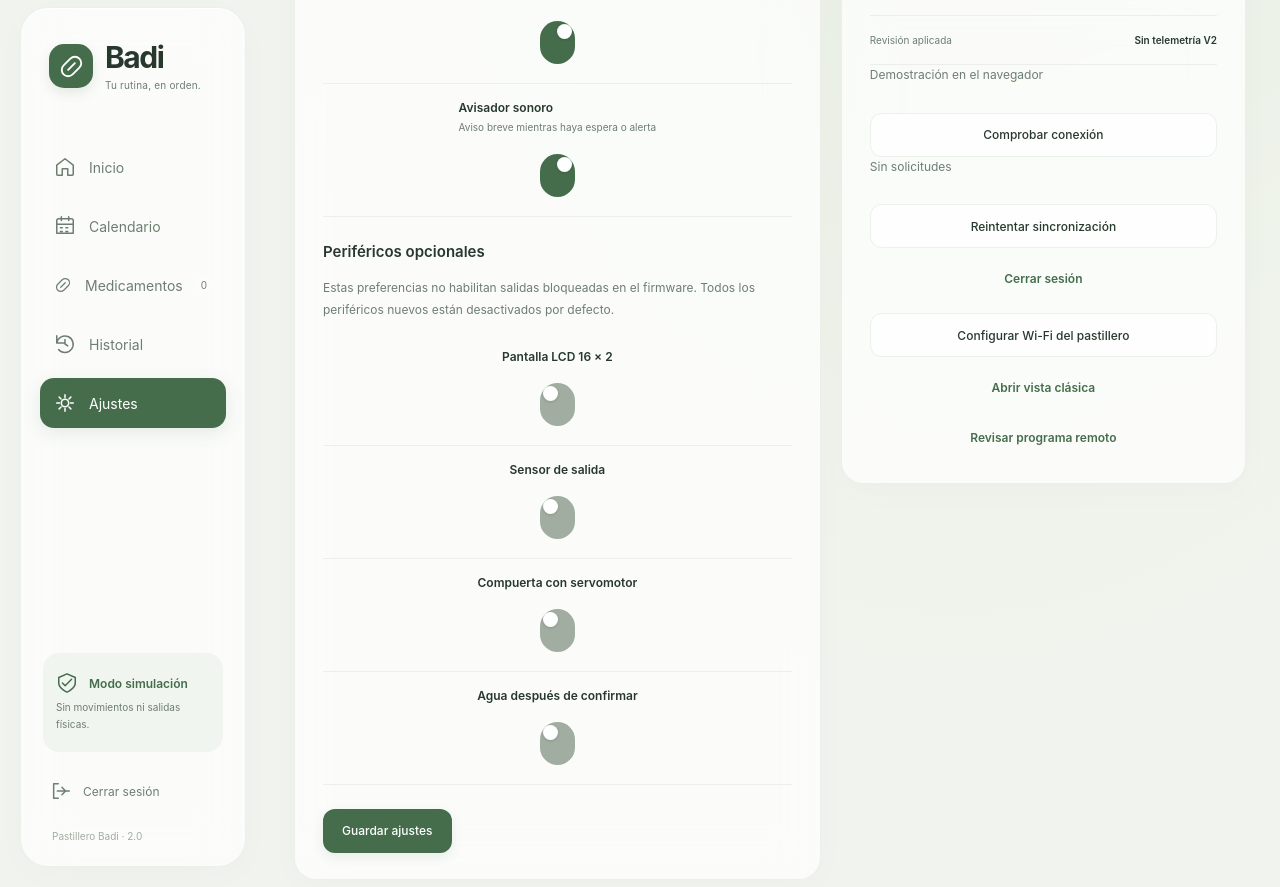
Test: la reconciliación conserva pautas locales solo tras elegir esa opción
(page scrolled)
Click the button "Revisar programa remoto": (1043, 437) [970, 417, 1116, 457]
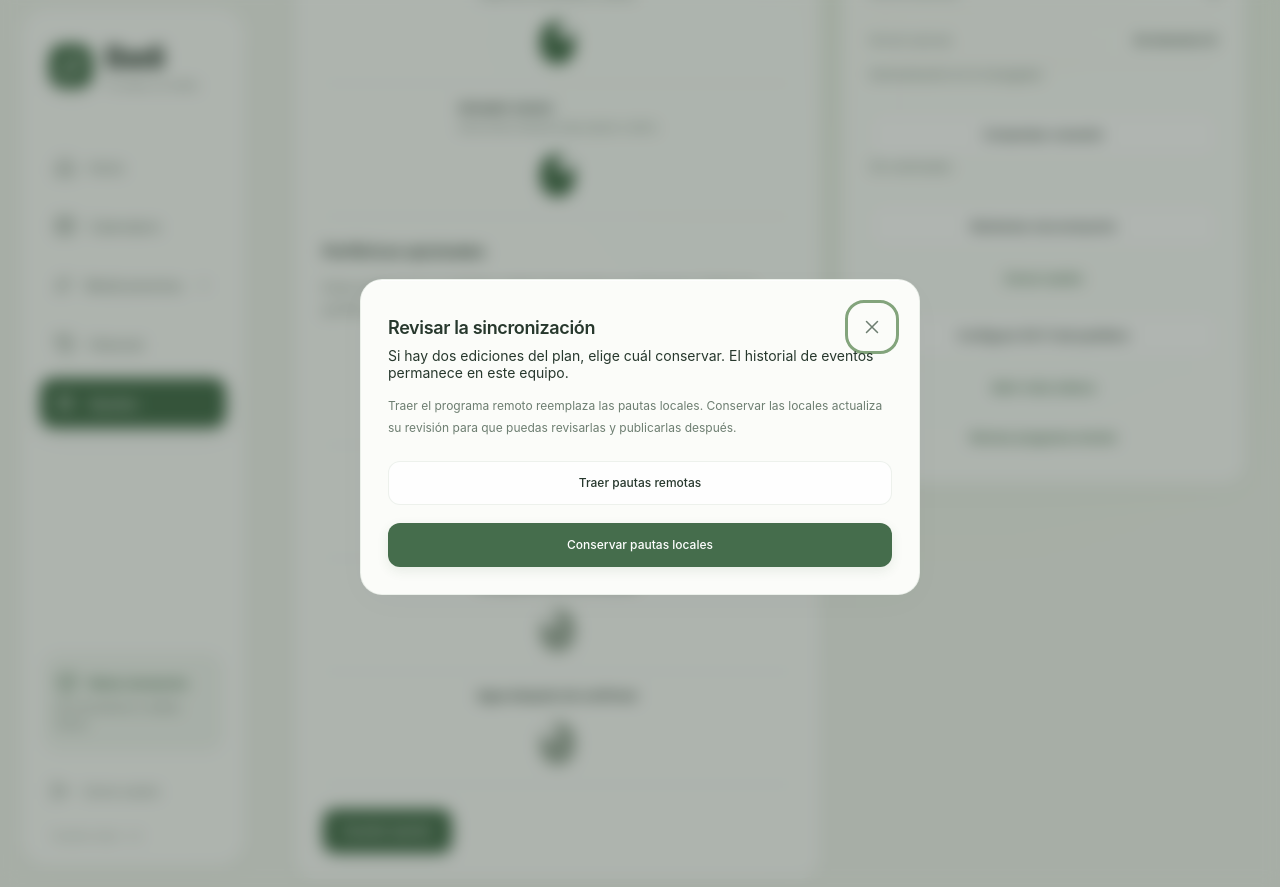
Click the button "Conservar pautas locales": (640, 545) [388, 523, 892, 567]
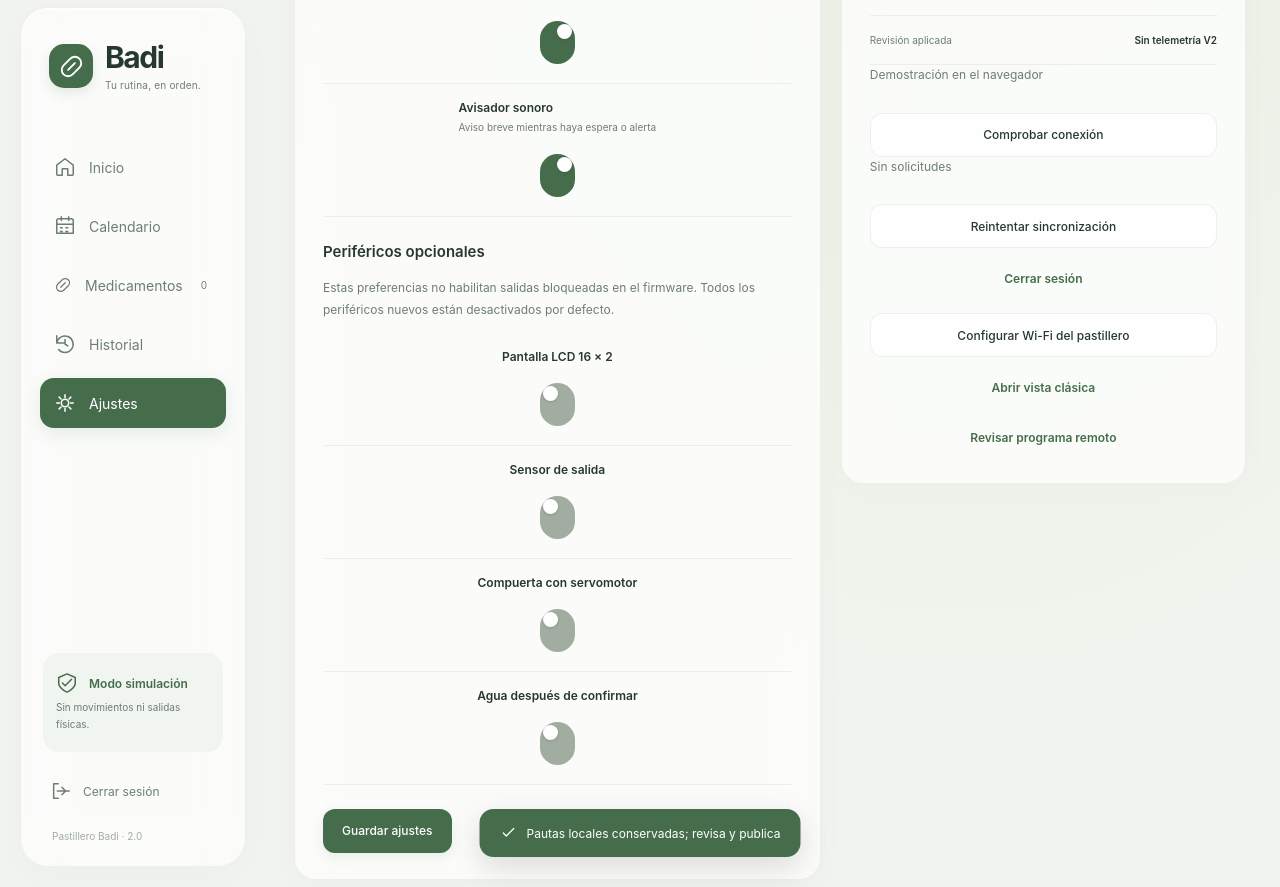
Check: the dialog is gone
